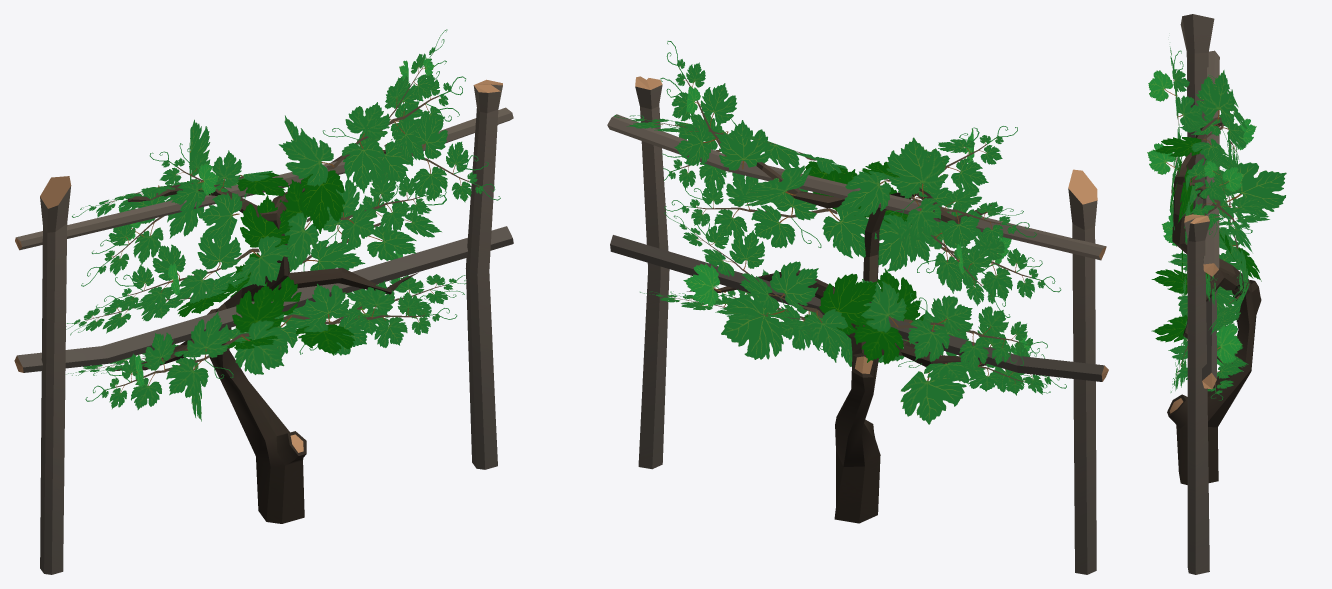
File: PT_Grape_Vine_02.fbx
The picture shows the model from 3 angles, left to right: view 1: azimuth 30°, elevation 25°; view 2: azimuth 150°, elevation 25°; view 3: azimuth 270°, elevation 25°; orthographic projection. The views are drawn at different scales.
Parts seen in each view (by area): view 1: PT_Grape_Vine_02_LOD0; view 2: PT_Grape_Vine_02_LOD0; view 3: PT_Grape_Vine_02_LOD0.
Boxes of the visible parts, x1,y1,x2,y2 form: PT_Grape_Vine_02_LOD0: (14,29,513,574); PT_Grape_Vine_02_LOD0: (607,41,1108,574); PT_Grape_Vine_02_LOD0: (1147,14,1286,574).
Size of what is drawn, in the model's own units: 276 by 243 by 92.73.
